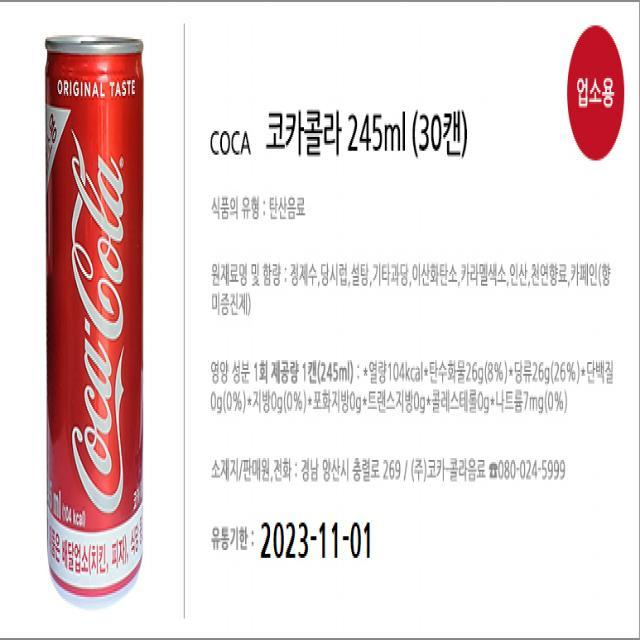coca-cola: (43, 30, 147, 610)
